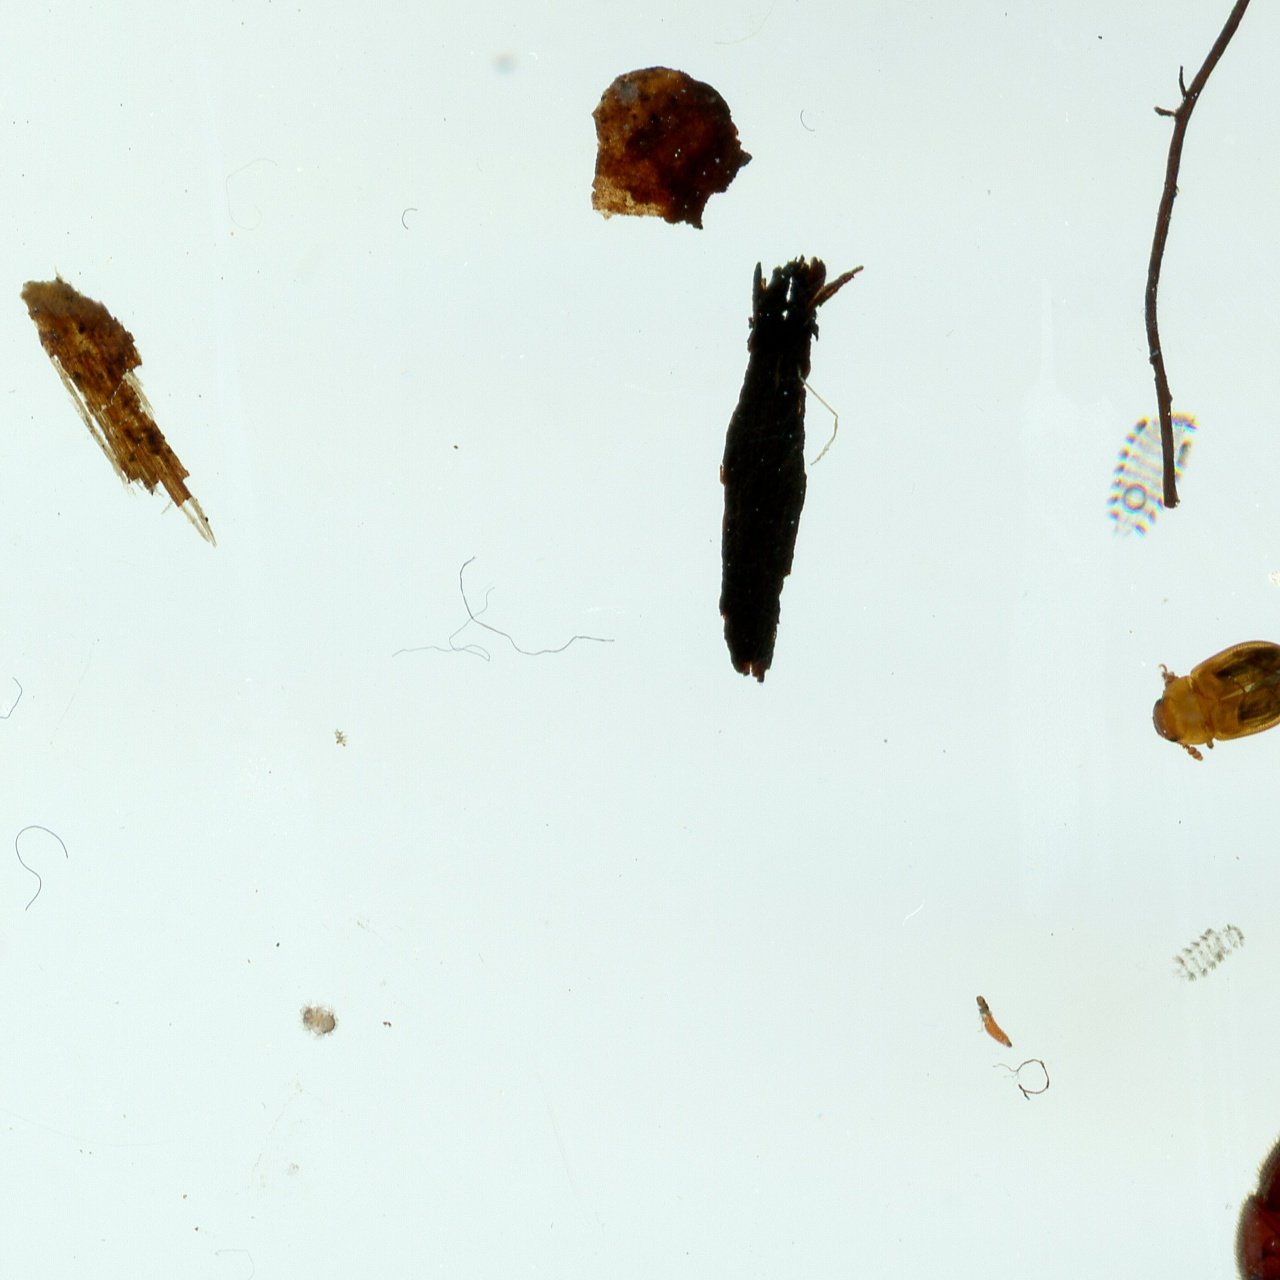arthropod: (1131, 634, 1280, 757)
